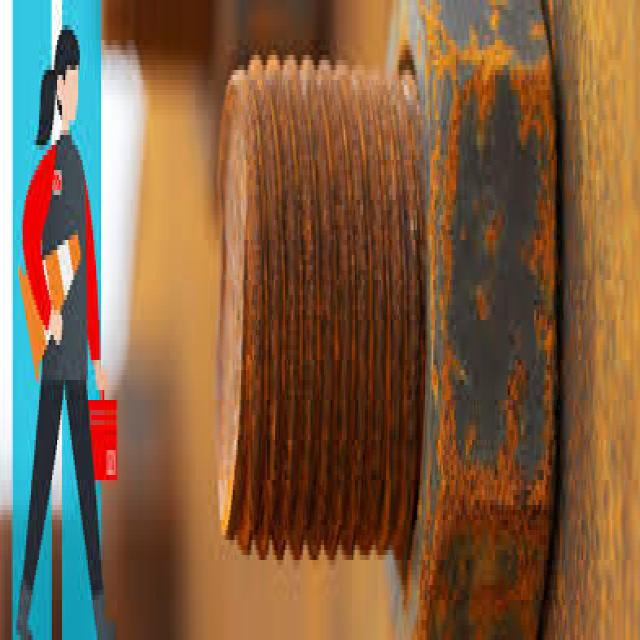Rusty bolt: (381, 1, 558, 638)
